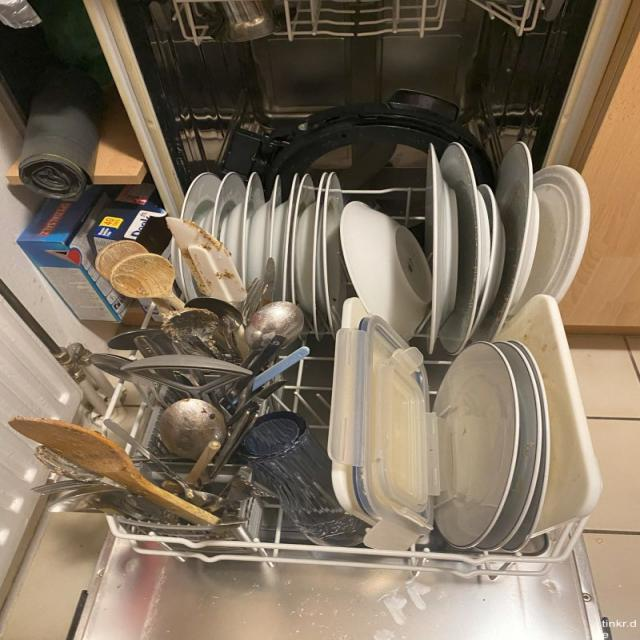clutery_bin: (112, 297, 272, 550)
